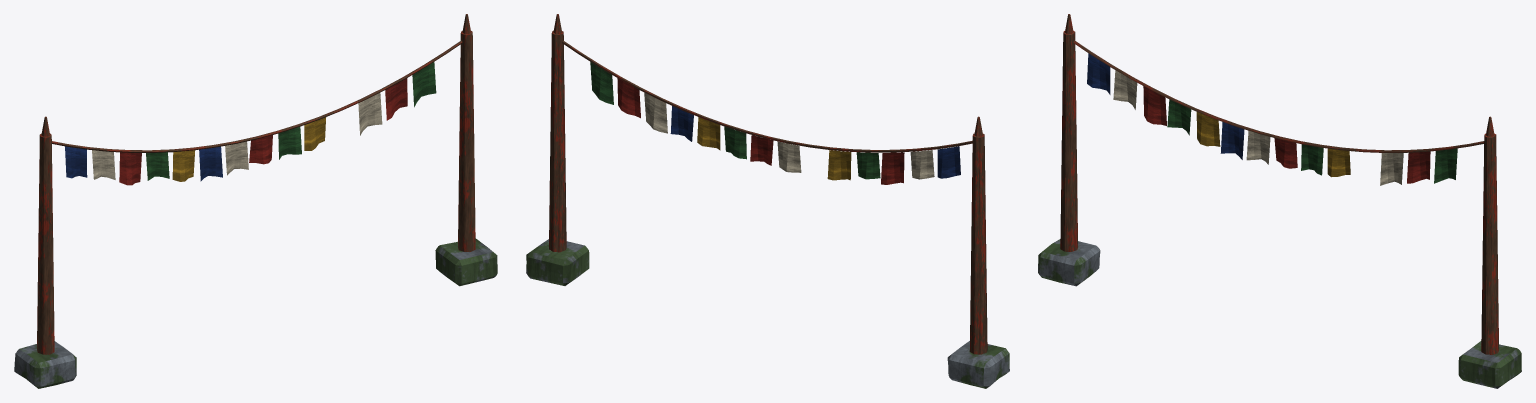
The model's file is Bell_Prayer_Flags_Long.glb.
3 views of the same model, side by side, from view 1: azimuth 30°, elevation 25°; view 2: azimuth 150°, elevation 25°; view 3: azimuth 330°, elevation 25° (orthographic).
Visible parts, largest first — view 1: Bell_Prayer_Flags_Long__Timber, Bell_Prayer_Flags_Long__Cloth, Bell_Prayer_Flags_Long__Stone; view 2: Bell_Prayer_Flags_Long__Timber, Bell_Prayer_Flags_Long__Cloth, Bell_Prayer_Flags_Long__Stone; view 3: Bell_Prayer_Flags_Long__Timber, Bell_Prayer_Flags_Long__Cloth, Bell_Prayer_Flags_Long__Stone.
Part boxes in pixels (x1,y1,x2,y2): Bell_Prayer_Flags_Long__Timber: (37, 14, 475, 354); Bell_Prayer_Flags_Long__Cloth: (65, 62, 436, 185); Bell_Prayer_Flags_Long__Stone: (14, 238, 497, 388); Bell_Prayer_Flags_Long__Timber: (549, 14, 987, 354); Bell_Prayer_Flags_Long__Cloth: (590, 62, 960, 184); Bell_Prayer_Flags_Long__Stone: (526, 239, 1009, 388); Bell_Prayer_Flags_Long__Timber: (1060, 14, 1498, 354); Bell_Prayer_Flags_Long__Cloth: (1087, 53, 1457, 185); Bell_Prayer_Flags_Long__Stone: (1038, 239, 1521, 388).
Size of the model in its own units: 24.25 by 13.04 by 2.26.
Materials: 3 (3 with a texture image).
